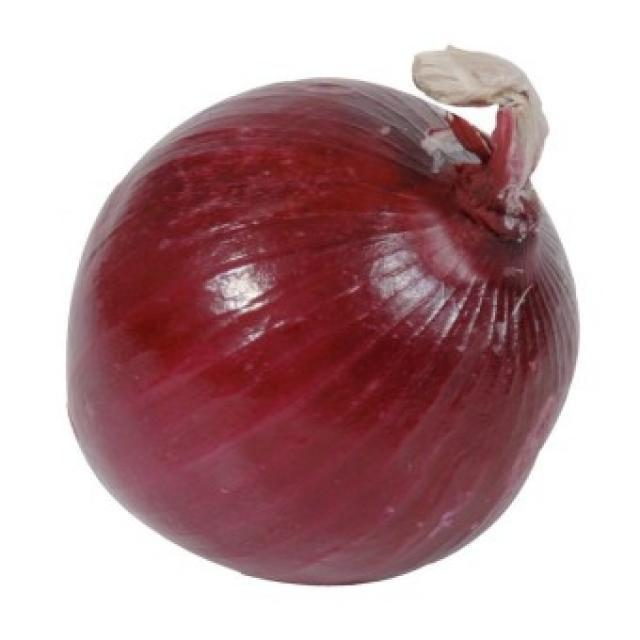onion: (53, 46, 620, 604)
